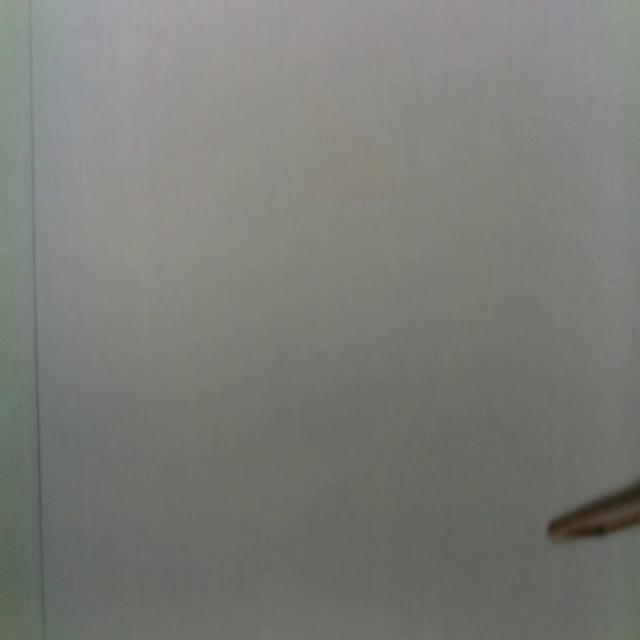crease: (27, 0, 48, 640)
